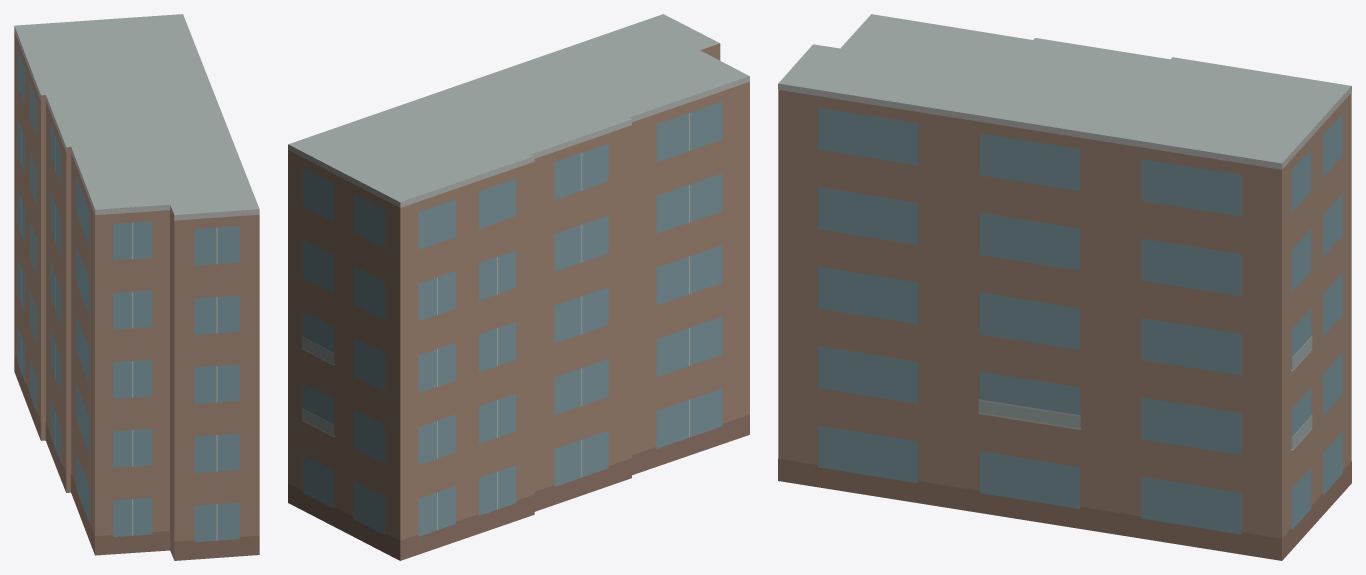
File: survey-upis-33022026.glb
The picture shows the model from 3 angles, left to right: view 1: azimuth 30°, elevation 25°; view 2: azimuth 150°, elevation 25°; view 3: azimuth 270°, elevation 25°; orthographic projection. The views are drawn at different scales.
Parts seen in each view (by area): view 1: survey-upis-33022026.tmp; view 2: survey-upis-33022026.tmp; view 3: survey-upis-33022026.tmp.
Boxes of the visible parts, box(x1,y1,x2,y2) form: survey-upis-33022026.tmp: box(14, 14, 259, 560); survey-upis-33022026.tmp: box(288, 14, 749, 560); survey-upis-33022026.tmp: box(778, 14, 1351, 560).
Bounding box in the file's own units: 12.6 × 15.6 × 20.42.
